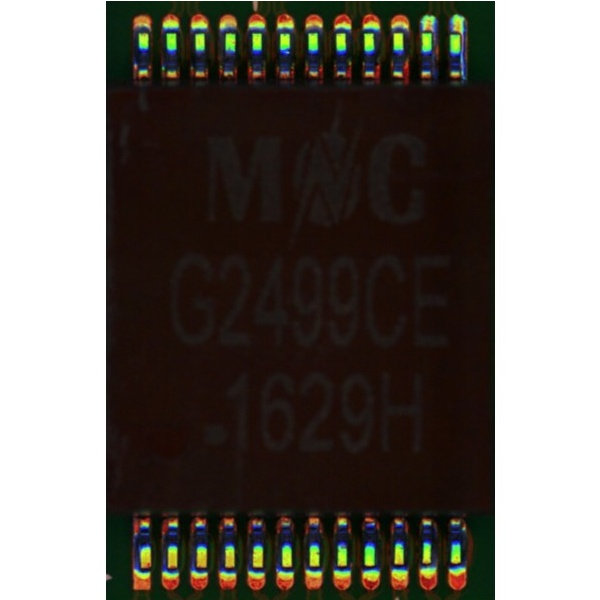Bad_podu: (421, 25, 431, 37), (450, 27, 460, 37)
Bad_qiaojiao: (459, 33, 466, 81)
